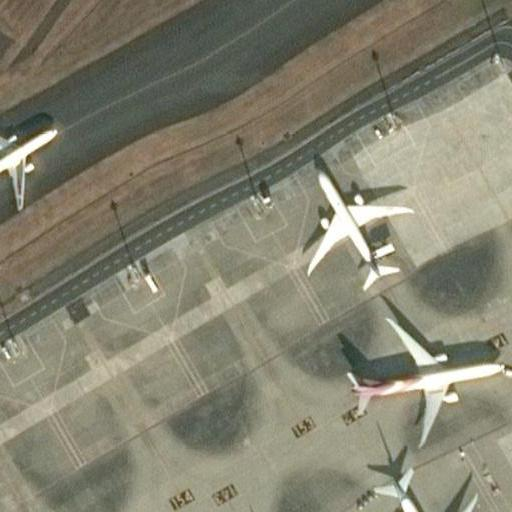Aircraft: (333, 305, 512, 437), (294, 161, 407, 289), (355, 459, 487, 512), (0, 106, 60, 206)
